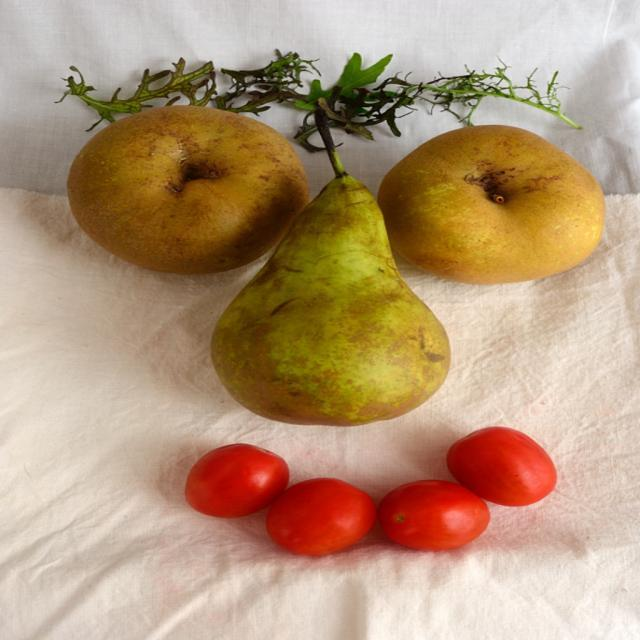Pear: (214, 175, 450, 427), (77, 108, 300, 264)
